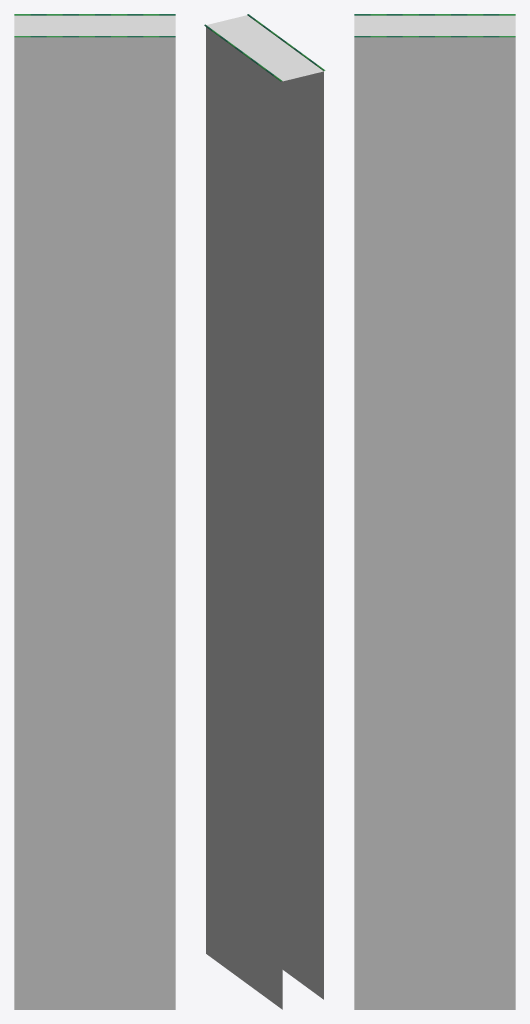
Rendered from Ground Finish.fbx.
The picture shows the model from 3 angles, left to right: view 1: azimuth 90°, elevation 25°; view 2: azimuth 210°, elevation 25°; view 3: azimuth 270°, elevation 25°; orthographic projection. The views are drawn at different scales.
Parts seen in each view (by area): view 1: Ground Finish; view 2: Ground Finish; view 3: Ground Finish.
Part boxes in pixels (<box>): Ground Finish: <box>14,14,175,1009</box>; Ground Finish: <box>204,14,325,1009</box>; Ground Finish: <box>354,14,515,1009</box>.
Bounding box in the file's own units: 2.02 × 40.04 × 6.
